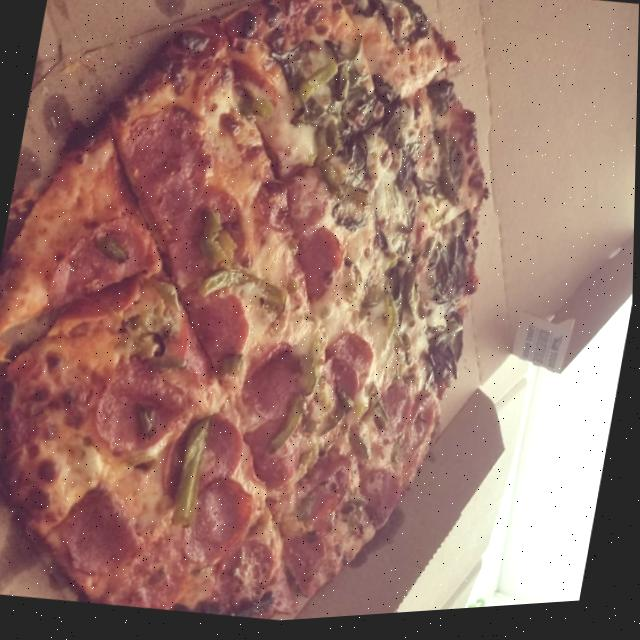mushrooms: (242, 32, 439, 250), (377, 242, 480, 371)
pepperoni: (90, 352, 198, 468), (181, 475, 259, 574), (240, 349, 308, 430), (292, 454, 358, 533), (289, 228, 349, 311), (319, 334, 378, 409), (199, 415, 250, 498), (280, 168, 335, 243), (209, 296, 256, 361), (375, 382, 418, 453)
pizza: (0, 0, 529, 640)
